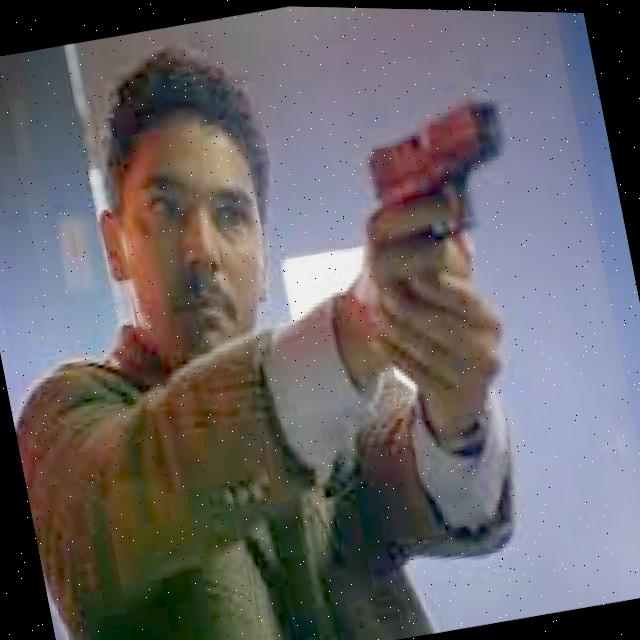pistol: (356, 91, 524, 253)
